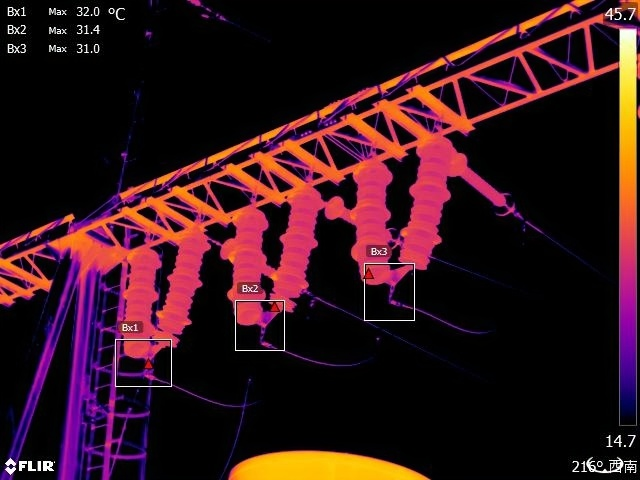clamp: (136, 364, 164, 389), (301, 290, 321, 318), (253, 334, 277, 355), (382, 293, 408, 312)
insulator: (401, 126, 458, 281), (352, 151, 399, 298), (275, 174, 327, 305), (225, 191, 272, 334), (161, 212, 209, 341), (119, 240, 163, 364), (453, 147, 523, 219), (319, 193, 398, 244), (221, 240, 283, 281)
